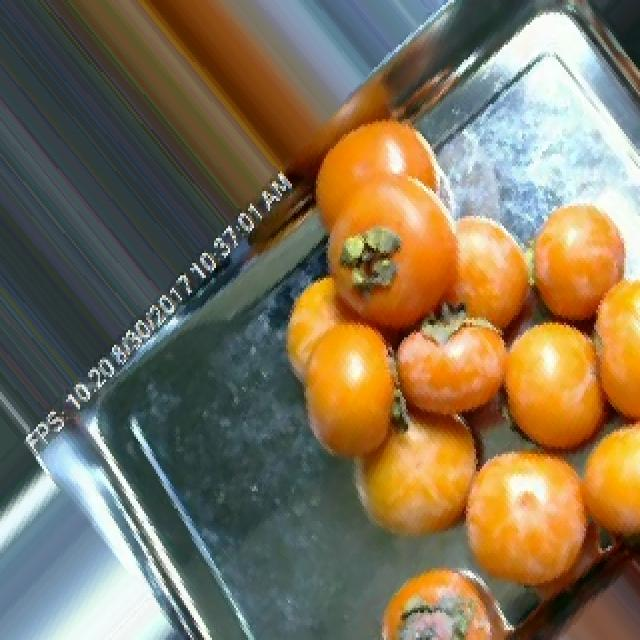Fruit: (518, 176, 640, 352), (368, 548, 532, 640), (552, 0, 640, 112)
